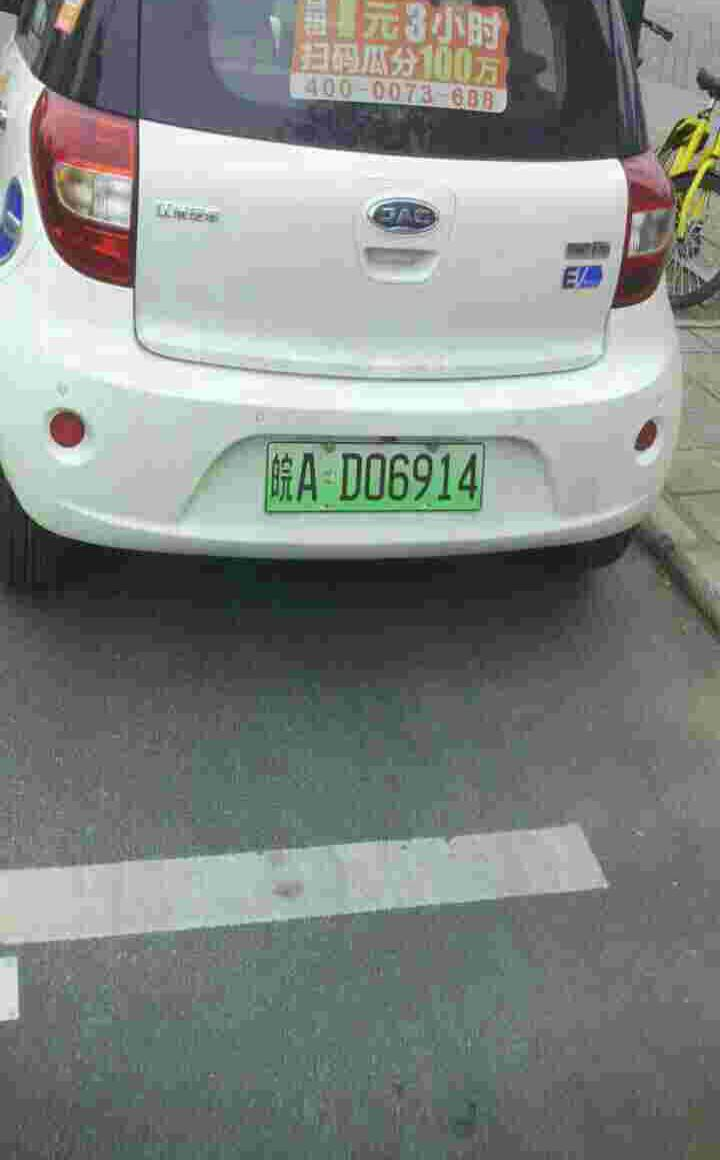car_id: (265, 441, 483, 509)
